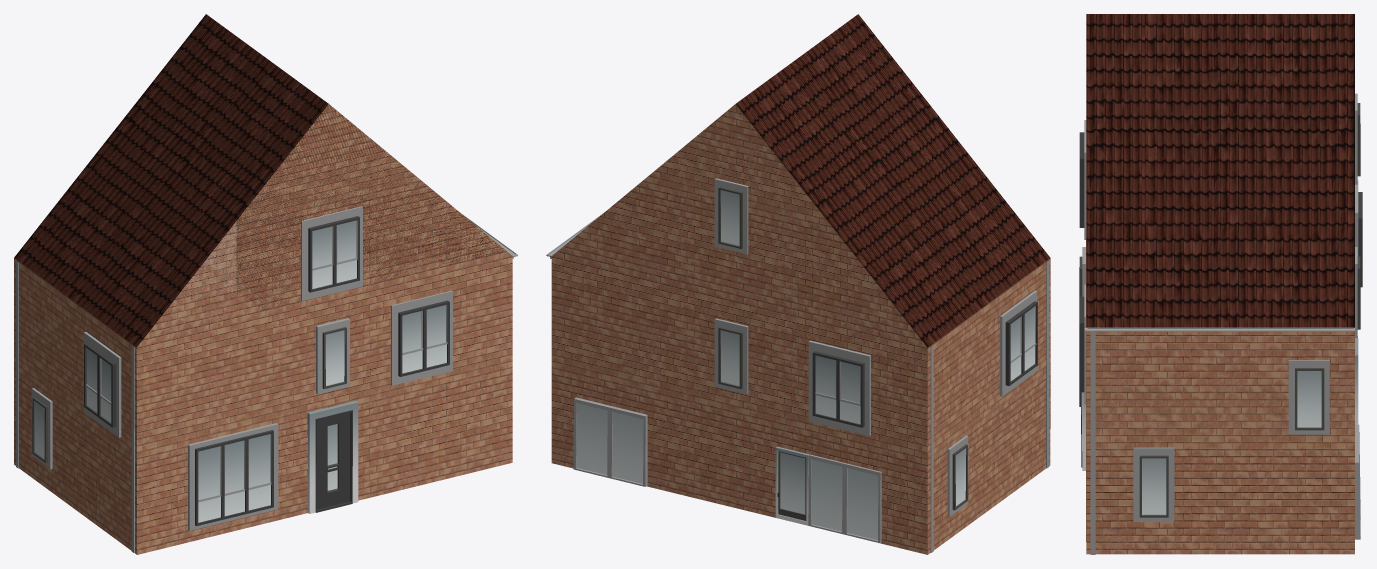
The model's file is Woning 39723 F2.fbx.
3 renders of one model, left to right at view 1: azimuth 30°, elevation 25°; view 2: azimuth 150°, elevation 25°; view 3: azimuth 270°, elevation 25°, orthographic. The views are drawn at different scales.
Parts seen in each view (by area): view 1: Woning_39723_F2; view 2: Woning_39723_F2; view 3: Woning_39723_F2.
Part boxes in pixels (x1,y1,x2,y2): Woning_39723_F2: (14,14,517,554); Woning_39723_F2: (546,14,1050,554); Woning_39723_F2: (1079,14,1362,554).
Size of the model in its own units: 994 by 992 by 576.
